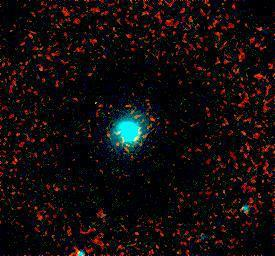star: (87, 201, 117, 231)
